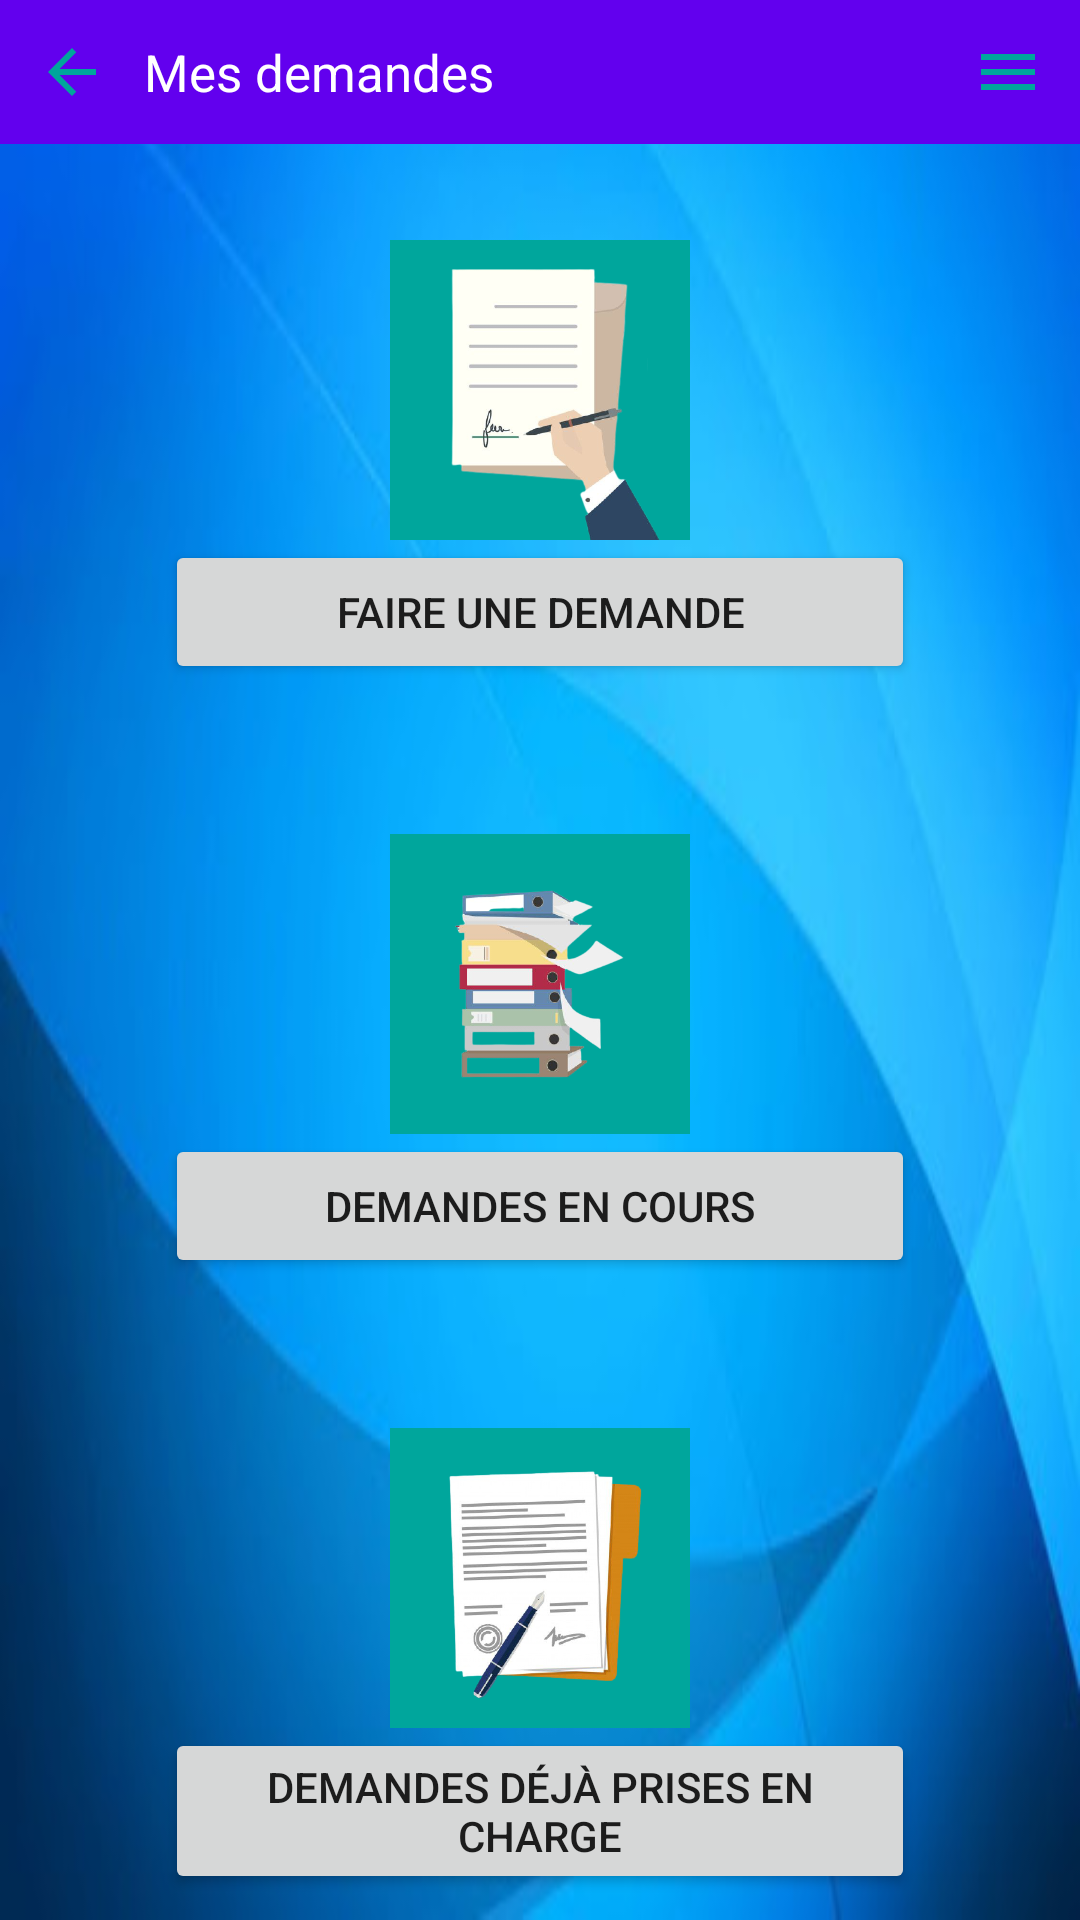

Point at icon controls on the screen. Image size 1080 × 1920, points as (x,y).
bouton de retour: (72,72)
menu: (1008,72)
traitement demande termine: (540,1578)
